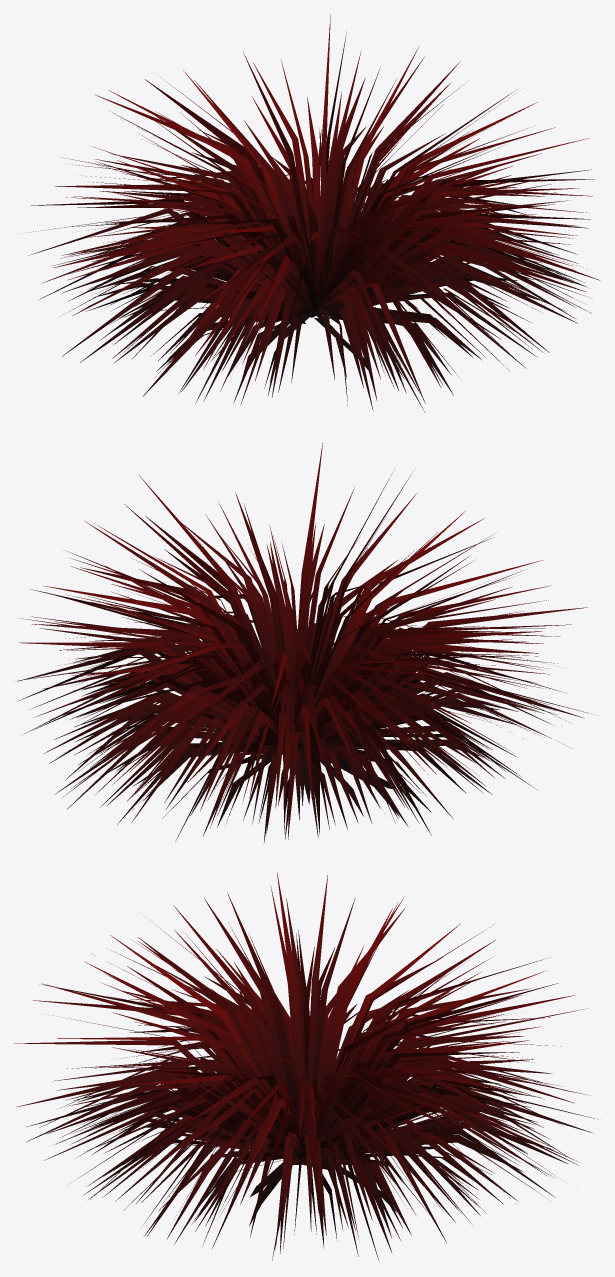
File: shade_grass_v03_LOD1.glb
3 views of the same model, one above another, from view 1: azimuth 30°, elevation 25°; view 2: azimuth 150°, elevation 25°; view 3: azimuth 270°, elevation 25° (orthographic).
Visible parts, largest first — view 1: shade_grass_v03_LOD1; view 2: shade_grass_v03_LOD1; view 3: shade_grass_v03_LOD1.
Part boxes in pixels (box(x1,y1,x2,y2)): shade_grass_v03_LOD1: box(26, 14, 600, 412); shade_grass_v03_LOD1: box(17, 442, 592, 843); shade_grass_v03_LOD1: box(14, 872, 598, 1261).
Bounding box in the file's own units: 0.9564 × 0.3645 × 0.9475.
1 material, 1 textured.
